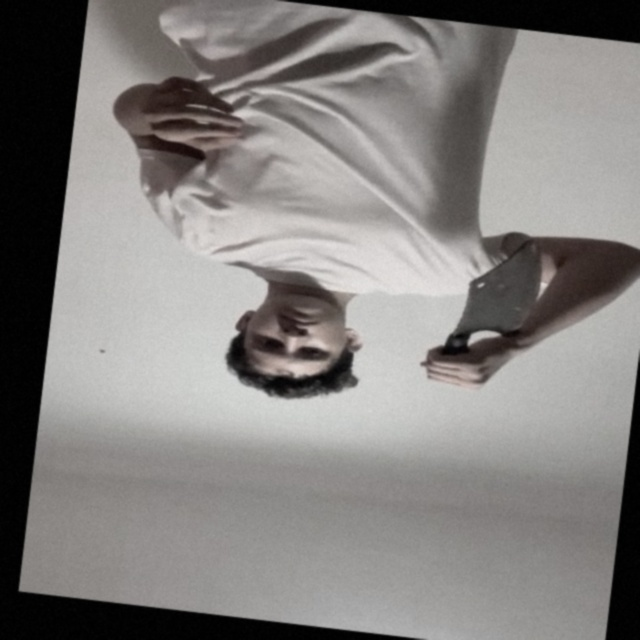Sharp-Object: (450, 234, 552, 346)
